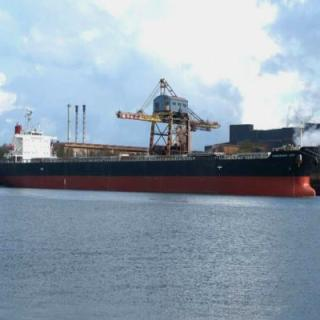Bulk Carrier: (0, 119, 320, 198)
